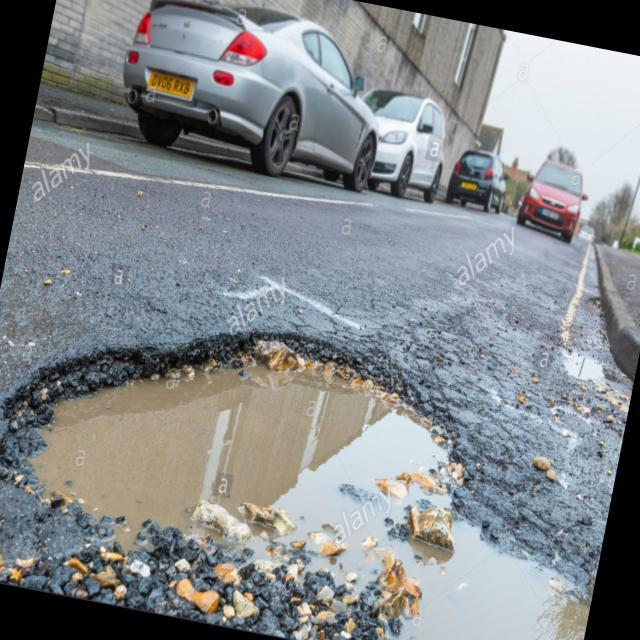Pothole: (0, 262, 633, 640), (545, 326, 640, 417)
